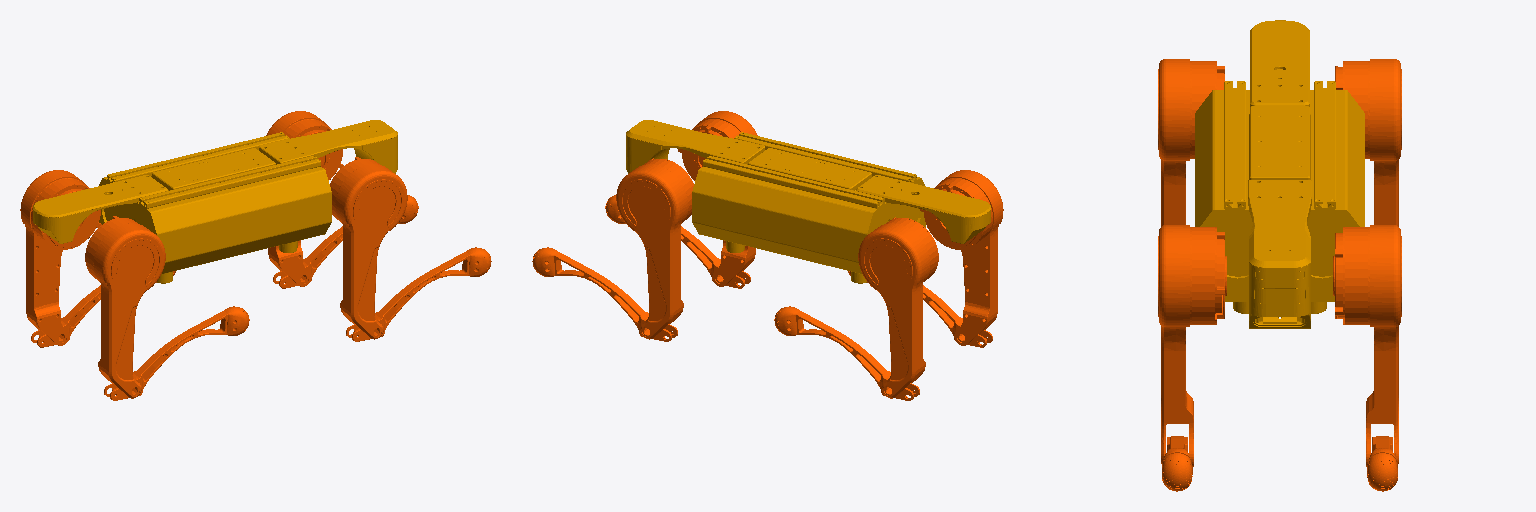
The robot description file, URDF, robot "dog200":
<?xml version="1.0" ?>
<!-- =================================================================================== -->
<!-- |    This document was autogenerated by xacro from robot.xacro                    | -->
<!-- |    EDITING THIS FILE BY HAND IS NOT RECOMMENDED                                 | -->
<!-- =================================================================================== -->
<robot name="dog200">
  <material name="black">
    <color rgba="0.0 0.0 0.0 1.0"/>
  </material>
  <material name="blue">
    <color rgba="0.0 0.0 0.8 1.0"/>
  </material>
  <material name="green">
    <color rgba="0.0 0.8 0.0 1.0"/>
  </material>
  <material name="grey">
    <color rgba="0.2 0.2 0.2 1.0"/>
  </material>
  <material name="silver">
    <color rgba="0.9137254901960784 0.9137254901960784 0.8470588235294118 1.0"/>
  </material>
  <material name="orange">
    <color rgba="1.0 0.4235294117647059 0.0392156862745098 1.0"/>
  </material>
  <material name="brown">
    <color rgba="0.8705882352941177 0.8117647058823529 0.7647058823529411 1.0"/>
  </material>
  <material name="red">
    <color rgba="0.8 0.0 0.0 1.0"/>
  </material>
  <material name="white">
    <color rgba="1.0 1.0 1.0 1.0"/>
  </material>
  <!-- ？？？-->
  <link name="trunk">
    <visual>
      <origin rpy="0 0 0" xyz="0 0 0"/>
      <geometry>
        <mesh filename="../meshes/trunk.STL" scale="1 1 1"/>
      </geometry>
    </visual>
    <collision>
      <origin rpy="0 0 0" xyz="0 0 0"/>
      <geometry>
        <box size="0.506 0.304 0.18"/>
      </geometry>
    </collision>
    <inertial>
      <origin rpy="0 0 0" xyz="-0.00127 -0.000312 -0.009056"/>
      <mass value="26.509671"/>
      <inertia ixx="0.238293" ixy="6.5e-05" ixz="0.005717" iyy="0.98538" iyz="-0.000315" izz="1.07499"/>
    </inertial>
  </link>
  <!-- Imu is fixed to the base link -->
  <joint name="imu_link_joint" type="fixed">
    <origin rpy="0. 0. 0." xyz="0. 0. 0."/>
    <parent link="trunk"/>
    <child link="imu_link"/>
  </joint>
  <!-- Imu link -->
  <link name="imu_link">
    <inertial>
      <mass value="0.01"/>
      <origin rpy="0 0 0" xyz="0 0 0"/>
      <inertia ixx="0.000001" ixy="0" ixz="0" iyy="0.000001" iyz="0" izz="0.000001"/>
    </inertial>
    <visual>
      <origin rpy="0 0 0" xyz="0 0 0"/>
      <geometry>
        <box size="0.015 0.015 0.004"/>
      </geometry>
    </visual>
    <material name="orange">
      <color rgba="255 108 10 255"/>
    </material>
  </link>
  <joint name="FR_hip_joint" type="revolute">
    <origin rpy="0 0 0" xyz="0.35 -0.075 0"/>
    <parent link="trunk"/>
    <child link="FR_hip"/>
    <axis xyz="1 0 0"/>
    <dynamics damping="0" friction="0"/>
    <limit effort="160" lower="-0.5235987755982988" upper="0.5235987755982988" velocity="30"/>
  </joint>
  <link name="FR_hip">
    <visual>
      <origin rpy="3.141592653589793 0 0" xyz="0 0 0"/>
      <geometry>
        <mesh filename="../meshes/hip.STL" scale="1 1 1"/>
      </geometry>
      <material name="orange"/>
    </visual>
    <collision>
      <origin rpy="1.5707963267948966 0 0" xyz="0 0 0"/>
      <geometry>
        <cylinder length="0.055" radius="0.0875"/>
      </geometry>
    </collision>
    <inertial>
      <origin rpy="0 0 0" xyz="-0.011066 0.004319 3.3e-06"/>
      <mass value="2.6599"/>
      <inertia ixx="0.005441" ixy="-9.5e-05" ixz="-2e-06" iyy="0.011182" iyz="-2e-06" izz="0.007098"/>
    </inertial>
  </link>
  <joint name="FR_thigh_joint" type="revolute">
    <origin rpy="0 0 0" xyz="0 -0.10765 0"/>
    <parent link="FR_hip"/>
    <child link="FR_thigh"/>
    <axis xyz="0 -1 0"/>
    <dynamics damping="0" friction="0"/>
    <limit effort="200" lower="-1.9896753472735356" upper="0.4886921905584123" velocity="30"/>
  </joint>
  <link name="FR_thigh">
    <visual>
      <origin rpy="0 0 0" xyz="0 0 0"/>
      <geometry>
        <mesh filename="../meshes/R_thigh.STL" scale="1 1 1"/>
      </geometry>
      <material name="orange"/>
    </visual>
    <collision>
      <origin rpy="0 1.6707963267948966 0" xyz="-0.0 0 -0.175"/>
      <geometry>
        <box size="0.35 0.045 0.075"/>
      </geometry>
    </collision>
    <collision>
      <origin rpy="1.5707963267948966 0 0" xyz="0 0.0 0"/>
      <geometry>
        <cylinder length="0.055" radius="0.0875"/>
      </geometry>
    </collision>
    <inertial>
      <origin rpy="0 0 0" xyz="-0.007894 0.023943 -0.068076"/>
      <mass value="5.483708"/>
      <inertia ixx="0.100463" ixy="-0.001218" ixz="-0.00482" iyy="0.103304" iyz="-0.009831" izz="0.014712"/>
    </inertial>
  </link>
  <joint name="FR_calf_joint" type="revolute">
    <origin rpy="0 0 0" xyz="0 0 -0.35"/>
    <parent link="FR_thigh"/>
    <child link="FR_calf"/>
    <axis xyz="0 -1 0"/>
    <dynamics damping="0" friction="0"/>
    <limit effort="200" lower="1.0297442586766543" upper="2.722713633111154" velocity="10"/>
  </joint>
  <link name="FR_calf">
    <visual>
      <origin rpy="0 0 0" xyz="0 0 0"/>
      <geometry>
        <mesh filename="../meshes/calf.STL" scale="1 1 1"/>
      </geometry>
      <material name="orange"/>
    </visual>
    <collision>
      <origin rpy="0 1.5707963267948966 0" xyz="0.0 0 -0.164"/>
      <geometry>
        <box size="0.328 0.022 0.035"/>
      </geometry>
    </collision>
    <inertial>
      <origin rpy="0 0 0" xyz="0.017847 -7.7e-05 -0.147842"/>
      <mass value="0.623768"/>
      <inertia ixx="0.011073" ixy="0.0" ixz="0.000687" iyy="0.011294" iyz="1e-05" izz="0.000355"/>
    </inertial>
  </link>
  <joint name="FR_foot_fixed" type="fixed" dont_collapse="true">
    <origin rpy="0 0 0" xyz="0 0 -0.328"/>
    <parent link="FR_calf"/>
    <child link="FR_foot"/>
  </joint>
  <link name="FR_foot">
    <visual>
      <origin rpy="0 0 0" xyz="0 0 0"/>
      <geometry>
        <sphere radius="0.019999999999999997"/>
      </geometry>
      <material name="orange"/>
    </visual>
    <collision>
      <origin rpy="0 0 0" xyz="0 0 0"/>
      <geometry>
        <sphere radius="0.03"/>
      </geometry>
    </collision>
    <inertial>
      <mass value="0.02"/>
      <inertia ixx="7.2e-06" ixy="0.0" ixz="0.0" iyy="7.2e-06" iyz="0.0" izz="7.2e-06"/>
    </inertial>
  </link>
  <joint name="FL_hip_joint" type="revolute">
    <origin rpy="0 0 0" xyz="0.35 0.075 0"/>
    <parent link="trunk"/>
    <child link="FL_hip"/>
    <axis xyz="1 0 0"/>
    <dynamics damping="0" friction="0"/>
    <limit effort="160" lower="-0.5235987755982988" upper="0.5235987755982988" velocity="30"/>
  </joint>
  <link name="FL_hip">
    <visual>
      <origin rpy="0 0 0" xyz="0 0 0"/>
      <geometry>
        <mesh filename="../meshes/hip.STL" scale="1 1 1"/>
      </geometry>
      <material name="orange"/>
    </visual>
    <collision>
      <origin rpy="1.5707963267948966 0 0" xyz="0 0 0"/>
      <geometry>
        <cylinder length="0.055" radius="0.0875"/>
      </geometry>
    </collision>
    <inertial>
      <origin rpy="0 0 0" xyz="-0.011066 -0.004319 3.3e-06"/>
      <mass value="2.6599"/>
      <inertia ixx="0.005441" ixy="9.5e-05" ixz="-2e-06" iyy="0.011182" iyz="2e-06" izz="0.007098"/>
    </inertial>
  </link>
  <joint name="FL_thigh_joint" type="revolute">
    <origin rpy="0 0 0" xyz="0 0.10765 0"/>
    <parent link="FL_hip"/>
    <child link="FL_thigh"/>
    <axis xyz="0 -1 0"/>
    <dynamics damping="0" friction="0"/>
    <limit effort="200" lower="-1.9896753472735356" upper="0.4886921905584123" velocity="30"/>
  </joint>
  <link name="FL_thigh">
    <visual>
      <origin rpy="0 0 0" xyz="0 0 0"/>
      <geometry>
        <mesh filename="../meshes/L_thigh.STL" scale="1 1 1"/>
      </geometry>
      <material name="orange"/>
    </visual>
    <collision>
      <origin rpy="0 1.6707963267948966 0" xyz="-0.0 0 -0.175"/>
      <geometry>
        <box size="0.35 0.045 0.075"/>
      </geometry>
    </collision>
    <collision>
      <origin rpy="1.5707963267948966 0 0" xyz="0 -0.0 0"/>
      <geometry>
        <cylinder length="0.055" radius="0.0875"/>
      </geometry>
    </collision>
    <inertial>
      <origin rpy="0 0 0" xyz="-0.007894 -0.023943 -0.068076"/>
      <mass value="5.483708"/>
      <inertia ixx="0.100463" ixy="0.001218" ixz="-0.00482" iyy="0.103304" iyz="0.009831" izz="0.014712"/>
    </inertial>
  </link>
  <joint name="FL_calf_joint" type="revolute">
    <origin rpy="0 0 0" xyz="0 0 -0.35"/>
    <parent link="FL_thigh"/>
    <child link="FL_calf"/>
    <axis xyz="0 -1 0"/>
    <dynamics damping="0" friction="0"/>
    <limit effort="200" lower="1.0297442586766543" upper="2.722713633111154" velocity="10"/>
  </joint>
  <link name="FL_calf">
    <visual>
      <origin rpy="0 0 0" xyz="0 0 0"/>
      <geometry>
        <mesh filename="../meshes/calf.STL" scale="1 1 1"/>
      </geometry>
      <material name="orange"/>
    </visual>
    <collision>
      <origin rpy="0 1.5707963267948966 0" xyz="0.0 0 -0.164"/>
      <geometry>
        <box size="0.328 0.022 0.035"/>
      </geometry>
    </collision>
    <inertial>
      <origin rpy="0 0 0" xyz="0.017847 -7.7e-05 -0.147842"/>
      <mass value="0.623768"/>
      <inertia ixx="0.011073" ixy="0.0" ixz="0.000687" iyy="0.011294" iyz="1e-05" izz="0.000355"/>
    </inertial>
  </link>
  <joint name="FL_foot_fixed" type="fixed" dont_collapse="true">
    <origin rpy="0 0 0" xyz="0 0 -0.328"/>
    <parent link="FL_calf"/>
    <child link="FL_foot"/>
  </joint>
  <link name="FL_foot">
    <visual>
      <origin rpy="0 0 0" xyz="0 0 0"/>
      <geometry>
        <sphere radius="0.019999999999999997"/>
      </geometry>
      <material name="orange"/>
    </visual>
    <collision>
      <origin rpy="0 0 0" xyz="0 0 0"/>
      <geometry>
        <sphere radius="0.03"/>
      </geometry>
    </collision>
    <inertial>
      <mass value="0.02"/>
      <inertia ixx="7.2e-06" ixy="0.0" ixz="0.0" iyy="7.2e-06" iyz="0.0" izz="7.2e-06"/>
    </inertial>
  </link>
  <joint name="RR_hip_joint" type="revolute">
    <origin rpy="0 0 0" xyz="-0.35 -0.075 0"/>
    <parent link="trunk"/>
    <child link="RR_hip"/>
    <axis xyz="1 0 0"/>
    <dynamics damping="0" friction="0"/>
    <limit effort="160" lower="-0.5235987755982988" upper="0.5235987755982988" velocity="30"/>
  </joint>
  <link name="RR_hip">
    <visual>
      <origin rpy="3.141592653589793 3.141592653589793 0" xyz="0 0 0"/>
      <geometry>
        <mesh filename="../meshes/hip.STL" scale="1 1 1"/>
      </geometry>
      <material name="orange"/>
    </visual>
    <collision>
      <origin rpy="1.5707963267948966 0 0" xyz="0 0 0"/>
      <geometry>
        <cylinder length="0.055" radius="0.0875"/>
      </geometry>
    </collision>
    <inertial>
      <origin rpy="0 0 0" xyz="0.011066 0.004319 3.3e-06"/>
      <mass value="2.6599"/>
      <inertia ixx="0.005441" ixy="9.5e-05" ixz="2e-06" iyy="0.011182" iyz="-2e-06" izz="0.007098"/>
    </inertial>
  </link>
  <joint name="RR_thigh_joint" type="revolute">
    <origin rpy="0 0 0" xyz="0 -0.10765 0"/>
    <parent link="RR_hip"/>
    <child link="RR_thigh"/>
    <axis xyz="0 -1 0"/>
    <dynamics damping="0" friction="0"/>
    <limit effort="200" lower="-1.9896753472735356" upper="0.4886921905584123" velocity="30"/>
  </joint>
  <link name="RR_thigh">
    <visual>
      <origin rpy="0 0 0" xyz="0 0 0"/>
      <geometry>
        <mesh filename="../meshes/R_thigh.STL" scale="1 1 1"/>
      </geometry>
      <material name="orange"/>
    </visual>
    <collision>
      <origin rpy="0 1.6707963267948966 0" xyz="-0.0 0 -0.175"/>
      <geometry>
        <box size="0.35 0.045 0.075"/>
      </geometry>
    </collision>
    <collision>
      <origin rpy="1.5707963267948966 0 0" xyz="0 0.0 0"/>
      <geometry>
        <cylinder length="0.055" radius="0.0875"/>
      </geometry>
    </collision>
    <inertial>
      <origin rpy="0 0 0" xyz="-0.007894 0.023943 -0.068076"/>
      <mass value="5.483708"/>
      <inertia ixx="0.100463" ixy="-0.001218" ixz="-0.00482" iyy="0.103304" iyz="-0.009831" izz="0.014712"/>
    </inertial>
  </link>
  <joint name="RR_calf_joint" type="revolute">
    <origin rpy="0 0 0" xyz="0 0 -0.35"/>
    <parent link="RR_thigh"/>
    <child link="RR_calf"/>
    <axis xyz="0 -1 0"/>
    <dynamics damping="0" friction="0"/>
    <limit effort="200" lower="1.0297442586766543" upper="2.722713633111154" velocity="10"/>
  </joint>
  <link name="RR_calf">
    <visual>
      <origin rpy="0 0 0" xyz="0 0 0"/>
      <geometry>
        <mesh filename="../meshes/calf.STL" scale="1 1 1"/>
      </geometry>
      <material name="orange"/>
    </visual>
    <collision>
      <origin rpy="0 1.5707963267948966 0" xyz="0.0 0 -0.164"/>
      <geometry>
        <box size="0.328 0.022 0.035"/>
      </geometry>
    </collision>
    <inertial>
      <origin rpy="0 0 0" xyz="0.017847 -7.7e-05 -0.147842"/>
      <mass value="0.623768"/>
      <inertia ixx="0.011073" ixy="0.0" ixz="0.000687" iyy="0.011294" iyz="1e-05" izz="0.000355"/>
    </inertial>
  </link>
  <joint name="RR_foot_fixed" type="fixed" dont_collapse="true">
    <origin rpy="0 0 0" xyz="0 0 -0.328"/>
    <parent link="RR_calf"/>
    <child link="RR_foot"/>
  </joint>
  <link name="RR_foot">
    <visual>
      <origin rpy="0 0 0" xyz="0 0 0"/>
      <geometry>
        <sphere radius="0.019999999999999997"/>
      </geometry>
      <material name="orange"/>
    </visual>
    <collision>
      <origin rpy="0 0 0" xyz="0 0 0"/>
      <geometry>
        <sphere radius="0.03"/>
      </geometry>
    </collision>
    <inertial>
      <mass value="0.02"/>
      <inertia ixx="7.2e-06" ixy="0.0" ixz="0.0" iyy="7.2e-06" iyz="0.0" izz="7.2e-06"/>
    </inertial>
  </link>
  <joint name="RL_hip_joint" type="revolute">
    <origin rpy="0 0 0" xyz="-0.35 0.075 0"/>
    <parent link="trunk"/>
    <child link="RL_hip"/>
    <axis xyz="1 0 0"/>
    <dynamics damping="0" friction="0"/>
    <limit effort="160" lower="-0.5235987755982988" upper="0.5235987755982988" velocity="30"/>
  </joint>
  <link name="RL_hip">
    <visual>
      <origin rpy="0 3.141592653589793 0" xyz="0 0 0"/>
      <geometry>
        <mesh filename="../meshes/hip.STL" scale="1 1 1"/>
      </geometry>
      <material name="orange"/>
    </visual>
    <collision>
      <origin rpy="1.5707963267948966 0 0" xyz="0 0 0"/>
      <geometry>
        <cylinder length="0.055" radius="0.0875"/>
      </geometry>
    </collision>
    <inertial>
      <origin rpy="0 0 0" xyz="0.011066 -0.004319 3.3e-06"/>
      <mass value="2.6599"/>
      <inertia ixx="0.005441" ixy="-9.5e-05" ixz="2e-06" iyy="0.011182" iyz="2e-06" izz="0.007098"/>
    </inertial>
  </link>
  <joint name="RL_thigh_joint" type="revolute">
    <origin rpy="0 0 0" xyz="0 0.10765 0"/>
    <parent link="RL_hip"/>
    <child link="RL_thigh"/>
    <axis xyz="0 -1 0"/>
    <dynamics damping="0" friction="0"/>
    <limit effort="200" lower="-1.9896753472735356" upper="0.4886921905584123" velocity="30"/>
  </joint>
  <link name="RL_thigh">
    <visual>
      <origin rpy="0 0 0" xyz="0 0 0"/>
      <geometry>
        <mesh filename="../meshes/L_thigh.STL" scale="1 1 1"/>
      </geometry>
      <material name="orange"/>
    </visual>
    <collision>
      <origin rpy="0 1.6707963267948966 0" xyz="-0.0 0 -0.175"/>
      <geometry>
        <box size="0.35 0.045 0.075"/>
      </geometry>
    </collision>
    <collision>
      <origin rpy="1.5707963267948966 0 0" xyz="0 -0.0 0"/>
      <geometry>
        <cylinder length="0.055" radius="0.0875"/>
      </geometry>
    </collision>
    <inertial>
      <origin rpy="0 0 0" xyz="-0.007894 -0.023943 -0.068076"/>
      <mass value="5.483708"/>
      <inertia ixx="0.100463" ixy="0.001218" ixz="-0.00482" iyy="0.103304" iyz="0.009831" izz="0.014712"/>
    </inertial>
  </link>
  <joint name="RL_calf_joint" type="revolute">
    <origin rpy="0 0 0" xyz="0 0 -0.35"/>
    <parent link="RL_thigh"/>
    <child link="RL_calf"/>
    <axis xyz="0 -1 0"/>
    <dynamics damping="0" friction="0"/>
    <limit effort="200" lower="1.0297442586766543" upper="2.722713633111154" velocity="10"/>
  </joint>
  <link name="RL_calf">
    <visual>
      <origin rpy="0 0 0" xyz="0 0 0"/>
      <geometry>
        <mesh filename="../meshes/calf.STL" scale="1 1 1"/>
      </geometry>
      <material name="orange"/>
    </visual>
    <collision>
      <origin rpy="0 1.5707963267948966 0" xyz="0.0 0 -0.164"/>
      <geometry>
        <box size="0.328 0.022 0.035"/>
      </geometry>
    </collision>
    <inertial>
      <origin rpy="0 0 0" xyz="0.017847 -7.7e-05 -0.147842"/>
      <mass value="0.623768"/>
      <inertia ixx="0.011073" ixy="0.0" ixz="0.000687" iyy="0.011294" iyz="1e-05" izz="0.000355"/>
    </inertial>
  </link>
  <joint name="RL_foot_fixed" type="fixed" dont_collapse="true">
    <origin rpy="0 0 0" xyz="0 0 -0.328"/>
    <parent link="RL_calf"/>
    <child link="RL_foot"/>
  </joint>
  <link name="RL_foot">
    <visual>
      <origin rpy="0 0 0" xyz="0 0 0"/>
      <geometry>
        <sphere radius="0.019999999999999997"/>
      </geometry>
      <material name="orange"/>
    </visual>
    <collision>
      <origin rpy="0 0 0" xyz="0 0 0"/>
      <geometry>
        <sphere radius="0.03"/>
      </geometry>
    </collision>
    <inertial>
      <mass value="0.02"/>
      <inertia ixx="7.2e-06" ixy="0.0" ixz="0.0" iyy="7.2e-06" iyz="0.0" izz="7.2e-06"/>
    </inertial>
  </link>
</robot>

--- Render facts (derived) ---
Views: 3 orthographic renders of the robot side by side, from view 1: azimuth 30°, elevation 25°; view 2: azimuth 150°, elevation 25°; view 3: azimuth 270°, elevation 25°.
Model dog200 with 18 links and 17 joints (12 revolute, 5 fixed), rooted at trunk, posed all joints at 0 but 4 set to mid-range because 0 is outside their limits (FR_calf_joint = 1.88, FL_calf_joint = 1.88, RR_calf_joint = 1.88, RL_calf_joint = 1.88).
Visible links, largest first — view 1: trunk, RR_thigh, FR_thigh, RL_thigh, FL_thigh, FR_calf, RR_calf, FL_calf, RL_calf; view 2: trunk, RL_thigh, FL_thigh, RR_thigh, FR_thigh, FL_calf, RL_calf, FR_calf, RR_calf; view 3: trunk, FR_thigh, FL_thigh, RR_thigh, RL_thigh, FL_calf, FR_calf.
Boxes of the visible links, box(x1,y1,x2,y2) form: trunk: box(33, 120, 397, 283); RR_thigh: box(85, 216, 165, 398); FR_thigh: box(330, 157, 407, 339); RL_thigh: box(20, 170, 101, 345); FL_thigh: box(266, 111, 343, 286); FR_calf: box(346, 247, 491, 341); RR_calf: box(104, 306, 249, 400); FL_calf: box(273, 195, 418, 288); RL_calf: box(31, 271, 175, 347); trunk: box(626, 120, 990, 283); RL_thigh: box(858, 217, 938, 398); FL_thigh: box(616, 158, 693, 339); RR_thigh: box(920, 170, 1003, 345); FR_thigh: box(678, 111, 757, 286); FL_calf: box(532, 247, 677, 341); RL_calf: box(774, 306, 919, 400); FR_calf: box(605, 195, 750, 288); RR_calf: box(848, 271, 992, 347); trunk: box(1195, 20, 1364, 328); FR_thigh: box(1158, 225, 1226, 466); FL_thigh: box(1333, 225, 1401, 466); RR_thigh: box(1158, 59, 1224, 226); RL_thigh: box(1335, 59, 1401, 226); FL_calf: box(1367, 436, 1397, 491); FR_calf: box(1162, 436, 1192, 491).
Bounding box of the posed robot: 1.21 × 0.4345 × 0.4739 m (x, y, z).
9 mesh visuals loaded from 5 distinct referenced files (4 binary STL); not drawn: 4 (reference not matched to a file when rendering).
